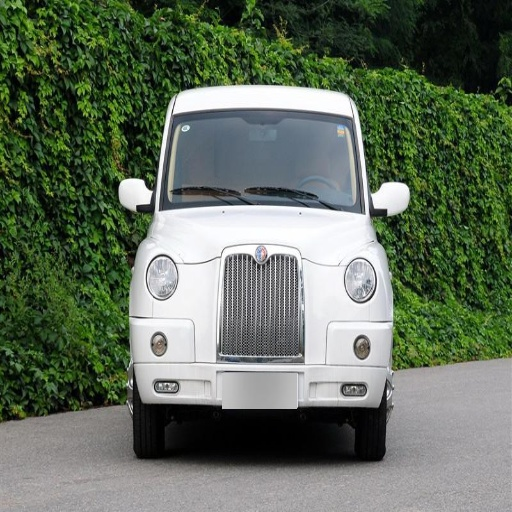front_bumper: (133, 243, 390, 406)
hood: (157, 208, 374, 265)
left_mirror: (372, 182, 410, 219)
